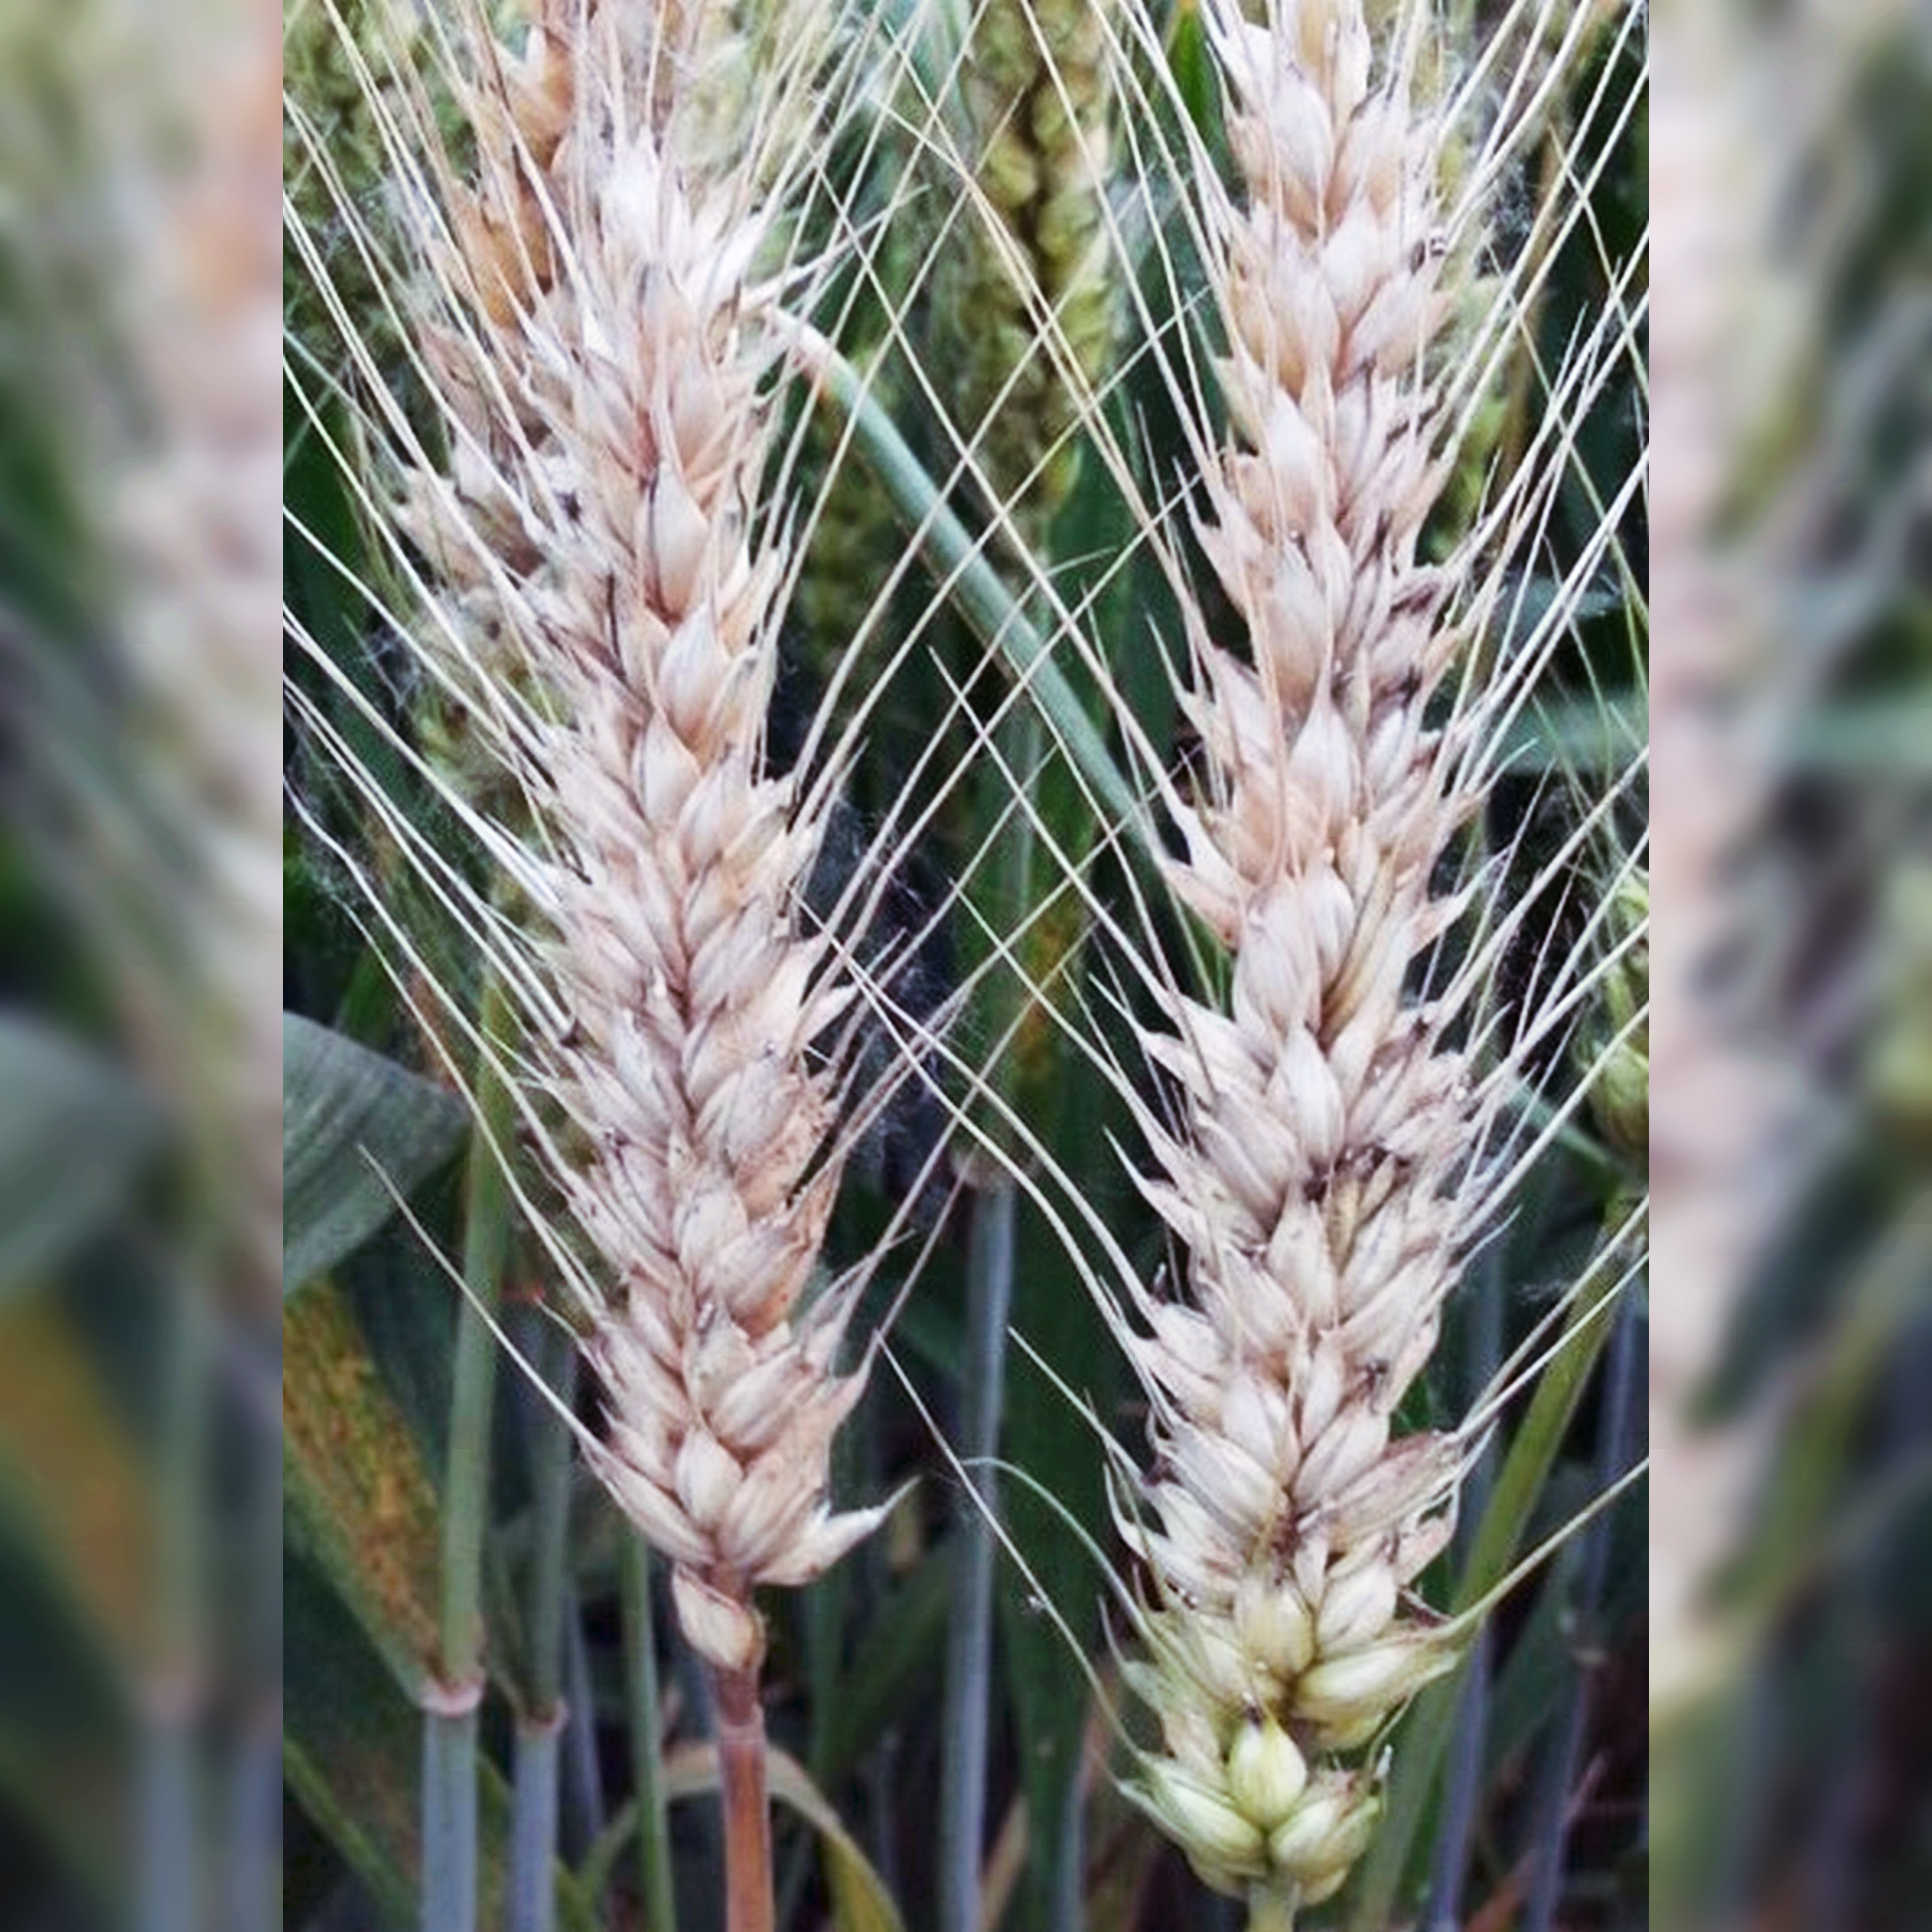Wheat scab: (511, 212, 904, 1612), (1097, 853, 1509, 1900)
